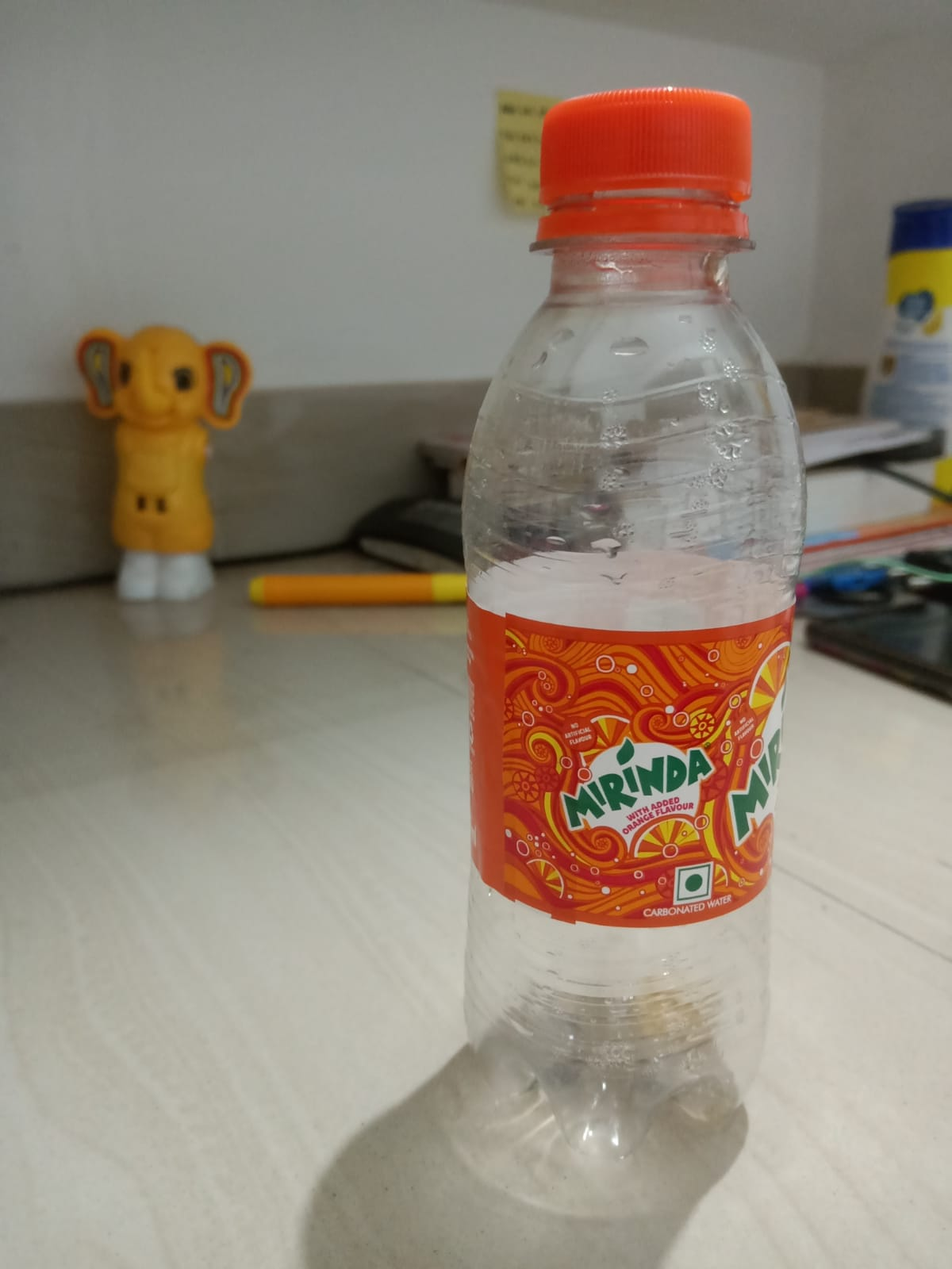plastic: (389, 104, 835, 1206)
